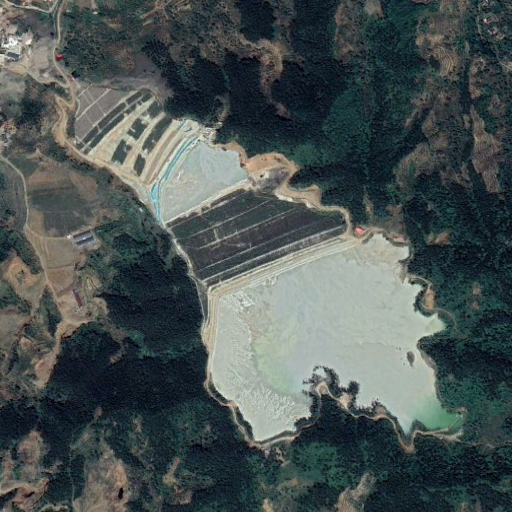tp: (165, 178, 466, 447)
